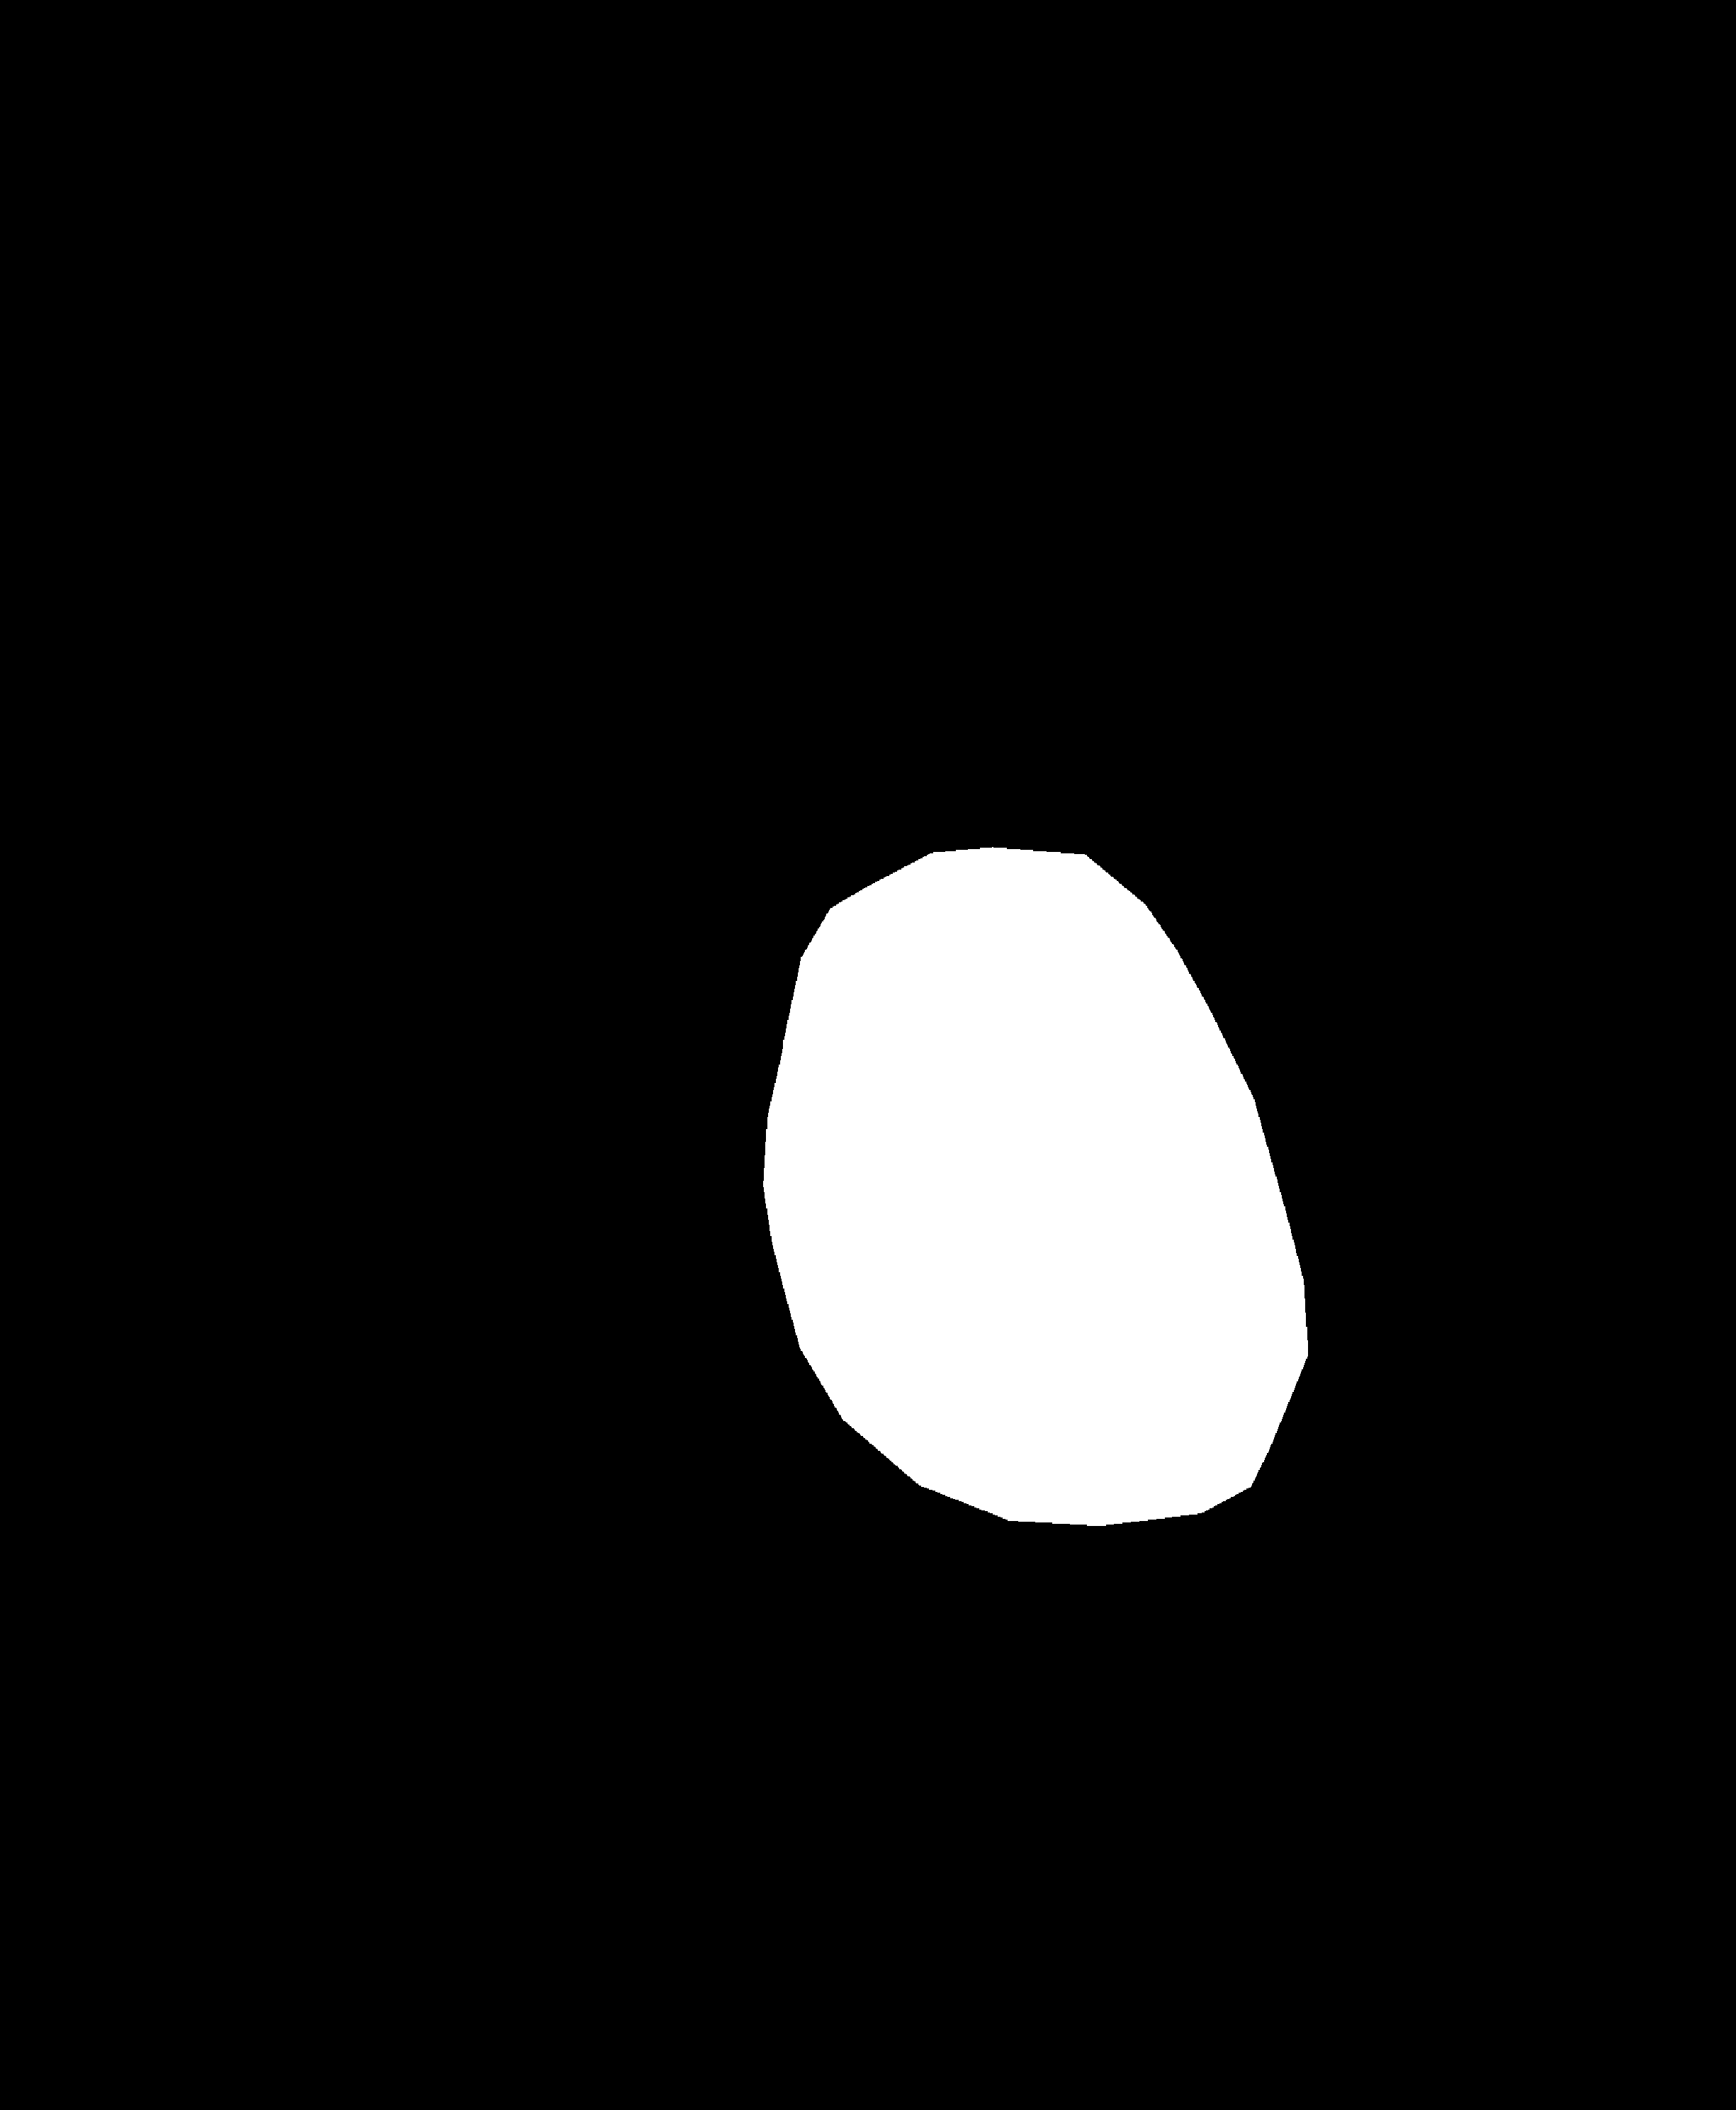heart: (766, 1013, 1307, 1486)
left_lung: (240, 230, 832, 1770)
right_lung: (955, 181, 1585, 1740)
